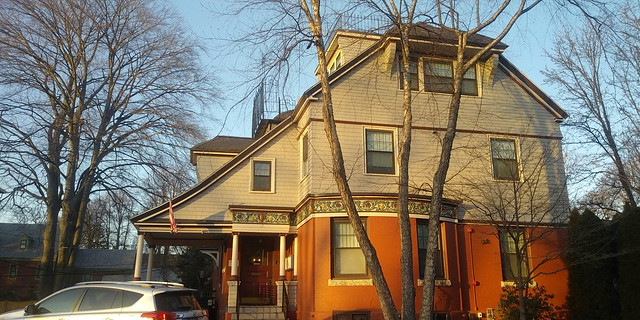medium: (132, 14, 578, 320)
